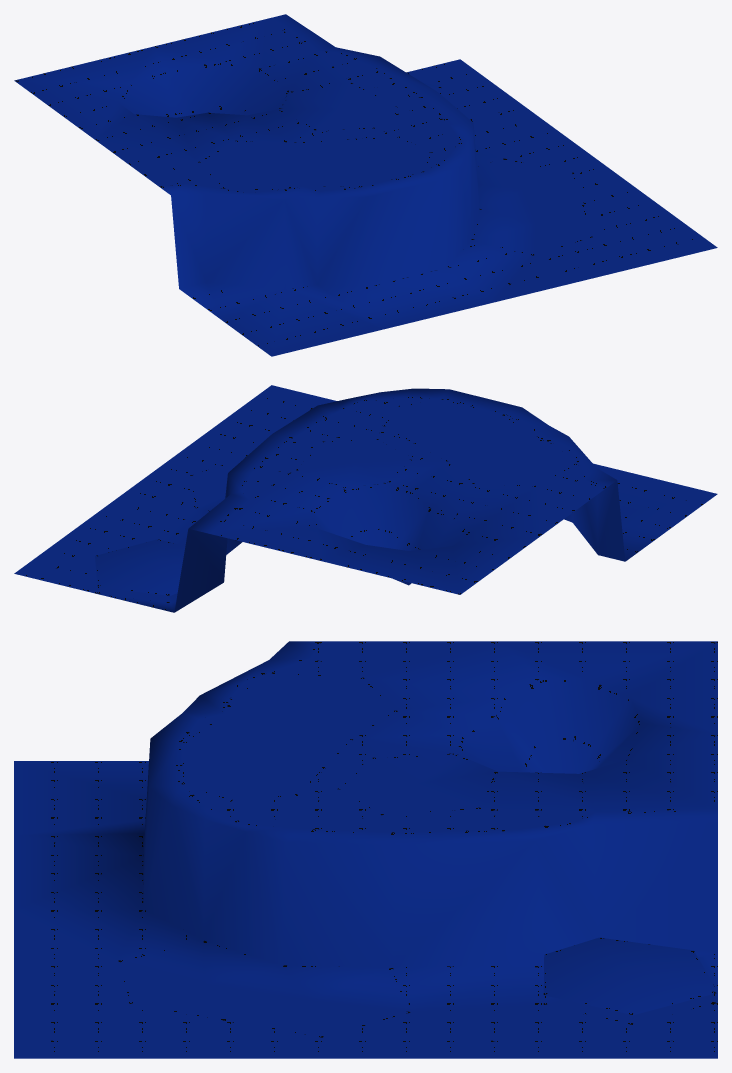
The model's file is GRD_S_C2_3.fbx.
The picture shows the model from 3 angles, top to bottom: view 1: azimuth 30°, elevation 25°; view 2: azimuth 150°, elevation 25°; view 3: azimuth 270°, elevation 25°; orthographic projection. The views are drawn at different scales.
Parts seen in each view (by area): view 1: material_00022000, material_00042000, material_C0032000, material_C0052000; view 2: material_00022000, material_C0032000, material_00042000, material_C0052000, material_C0012000, material_C0062000; view 3: material_00022000, material_00042000, material_C0032000, material_C0052000, material_C0012000, material_C0062000.
Part boxes in pixels (x1,y1,x2,y2): material_00022000: [14, 19, 717, 356]; material_00042000: [159, 14, 479, 289]; material_C0032000: [197, 82, 593, 255]; material_C0052000: [118, 61, 289, 117]; material_00022000: [14, 385, 717, 612]; material_C0032000: [189, 399, 577, 510]; material_00042000: [174, 388, 625, 612]; material_C0052000: [312, 484, 468, 585]; material_C0012000: [95, 539, 185, 595]; material_C0062000: [95, 563, 177, 602]; material_00022000: [14, 641, 717, 1058]; material_00042000: [143, 641, 717, 967]; material_C0032000: [116, 672, 497, 1037]; material_C0052000: [457, 678, 641, 773]; material_C0012000: [543, 937, 717, 1015]; material_C0062000: [543, 994, 717, 1025].
Bounding box in the file's own units: 12800 × 2400 × 12800.
